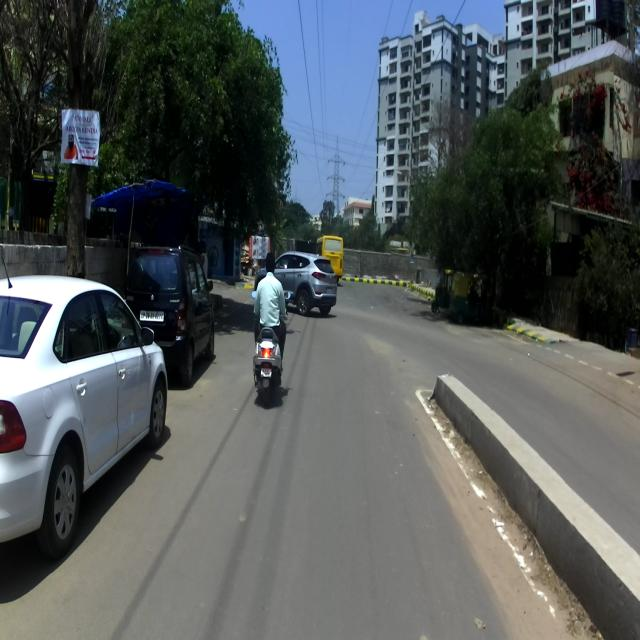car ahead at: (3, 260, 169, 550), (147, 242, 217, 386)
motorcycle ahead at: (245, 320, 293, 408)
